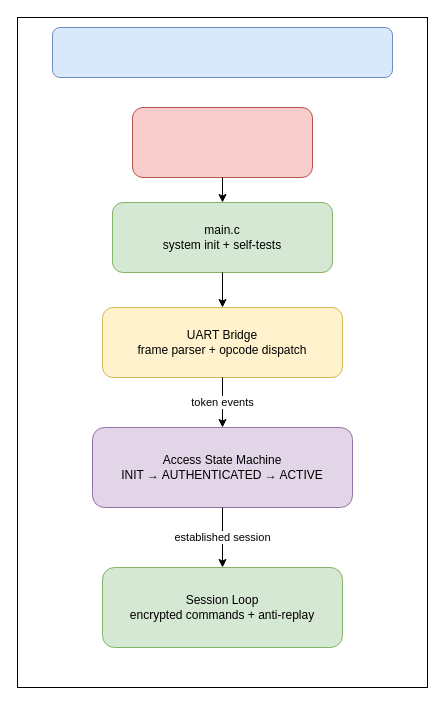
Some shapes in this 445 by 705 pixel diagram are drawn without their labels. Each missing label, with the centre of its shape:
"Firmware Runtime Architecture" goes at (x=222, y=52).
"Secure Boot secure_boot.c" goes at (x=222, y=142).
